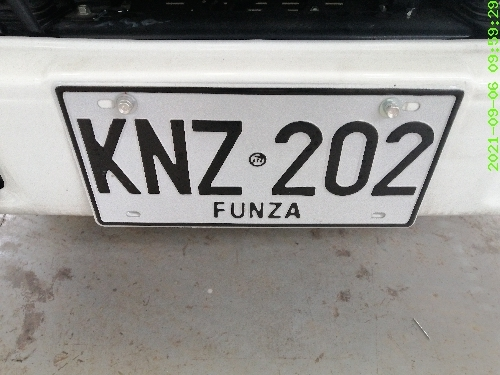number_plate: (69, 88, 438, 226)
